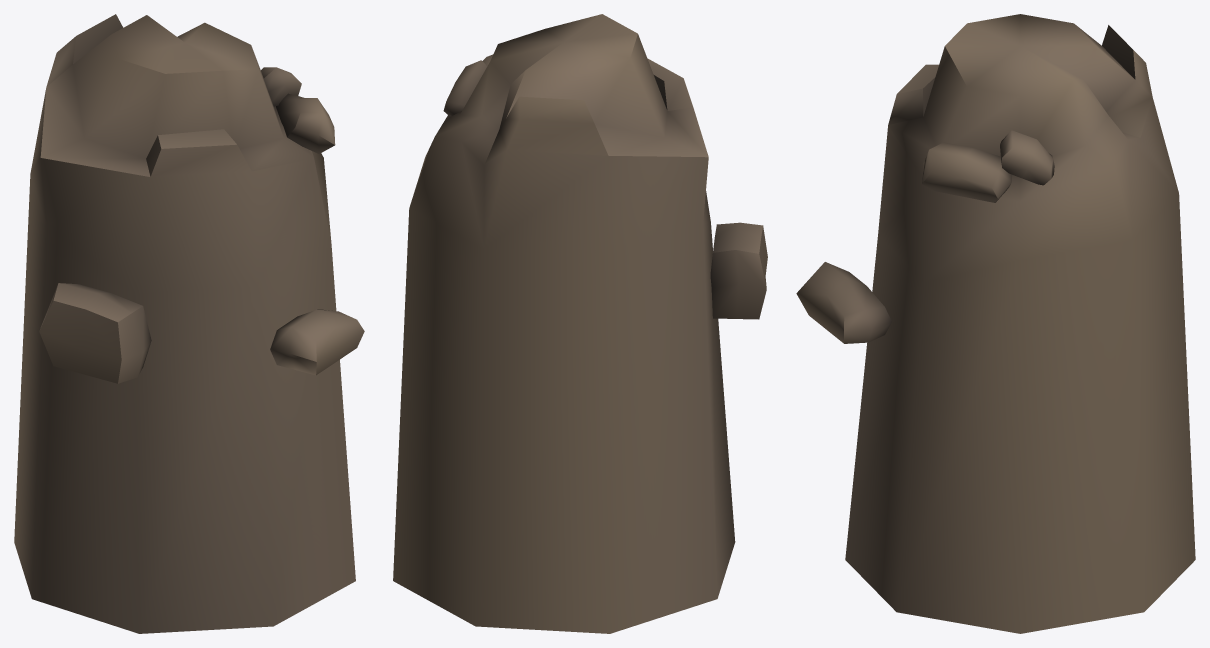
The model's file is buildings-ruins-cathedralruins_v13.glb.
3 renders of one model, left to right at view 1: azimuth 30°, elevation 25°; view 2: azimuth 150°, elevation 25°; view 3: azimuth 270°, elevation 25°, orthographic.
Visible parts, largest first — view 1: CathedralRuins_v13; view 2: CathedralRuins_v13; view 3: CathedralRuins_v13.
Boxes of the visible parts, x1,y1,x2,y2 form: CathedralRuins_v13: [14, 14, 364, 633]; CathedralRuins_v13: [393, 14, 767, 633]; CathedralRuins_v13: [796, 14, 1195, 633].
Size of the model in its own units: 2.16 by 3.28 by 2.31.
